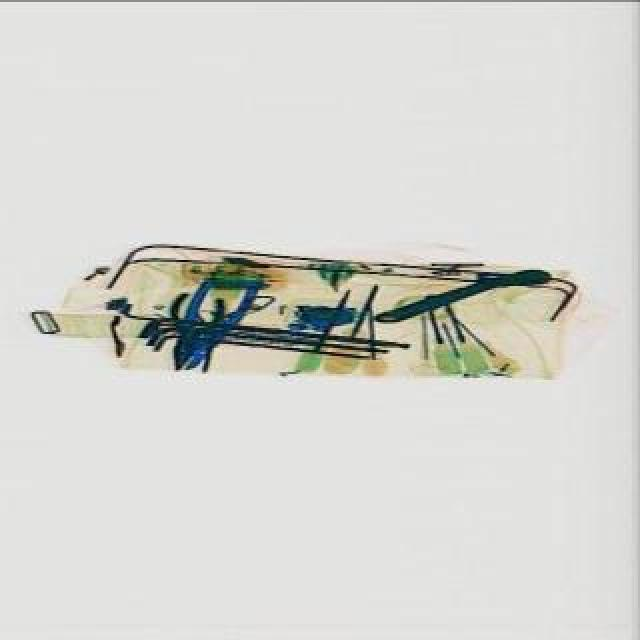scissors: (376, 262, 558, 338)
wrench: (170, 266, 268, 382), (160, 286, 232, 378)
